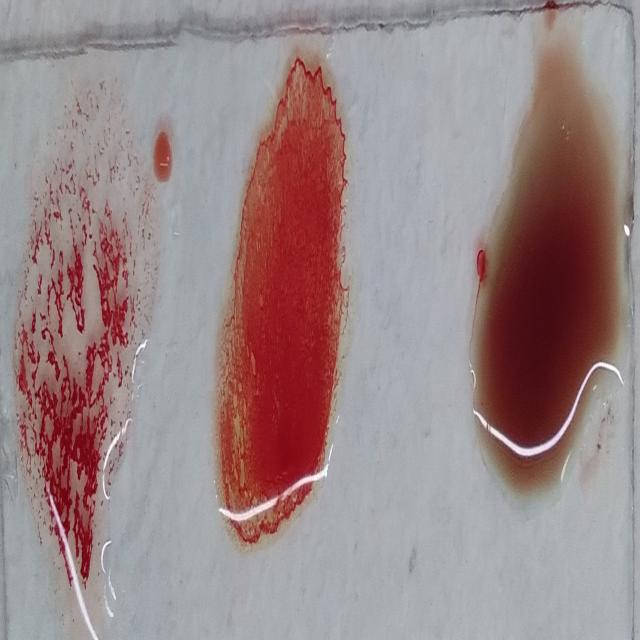B: (217, 41, 350, 562)
D: (10, 73, 154, 623)
